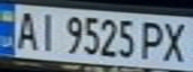2: (96, 16, 121, 58)
5: (115, 16, 142, 60), (78, 14, 103, 56)
9: (60, 12, 84, 54)
A: (12, 7, 42, 51)
I: (33, 10, 60, 52)
P: (136, 18, 169, 61)
X: (157, 18, 193, 64)
